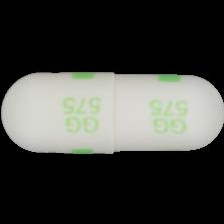43063-216: (0, 0, 224, 224)
